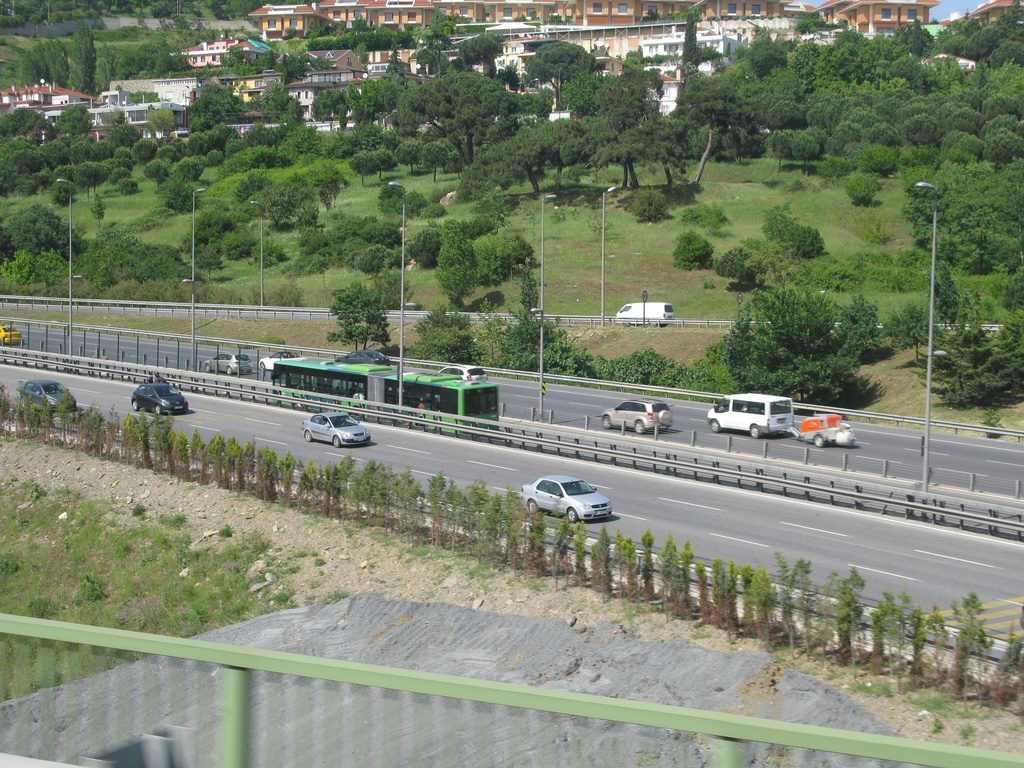Tree: (0, 0, 1024, 713)
